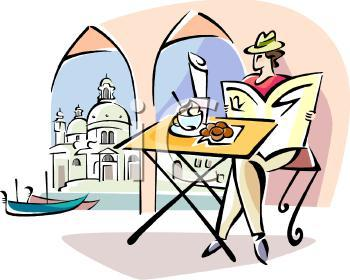boat: (1, 190, 88, 217), (23, 185, 101, 211)
diningtable: (113, 108, 281, 266)
person: (199, 26, 325, 260)
